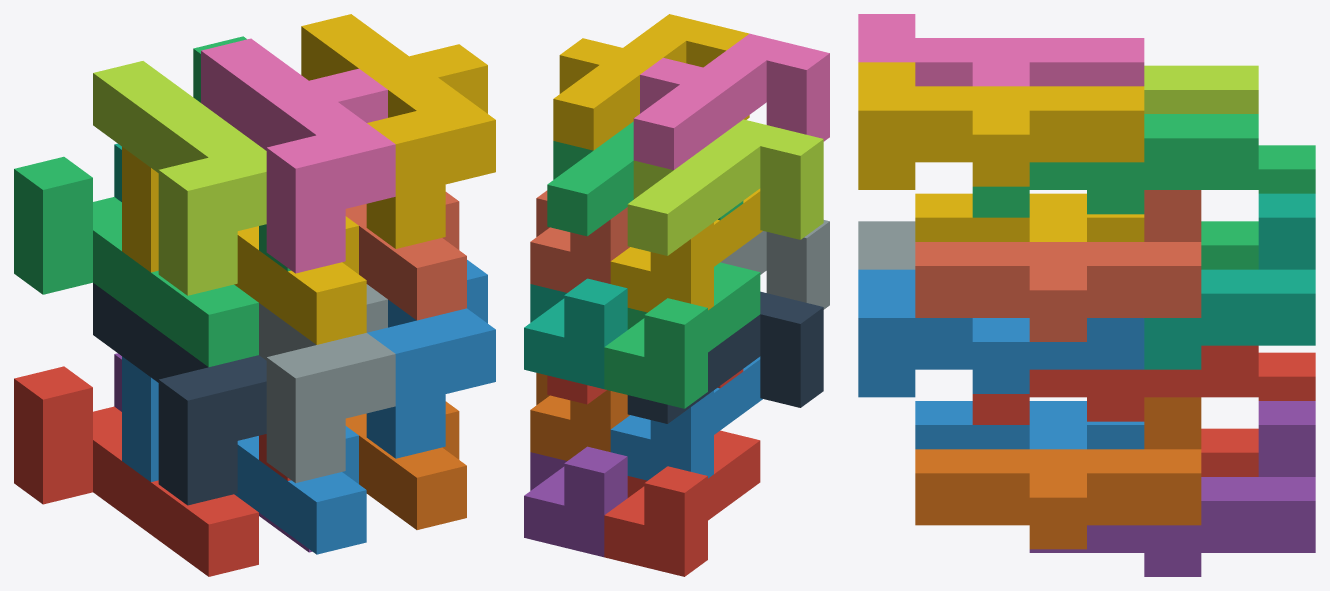
The model's file is tiling.obj.
The picture shows the model from 3 angles, left to right: view 1: azimuth 30°, elevation 25°; view 2: azimuth 150°, elevation 25°; view 3: azimuth 270°, elevation 25°; orthographic projection. The views are drawn at different scales.
Visible parts, largest first — view 1: copy_2_domain_4, copy_2_domain_3, copy_2_domain_8, copy_1_domain_3, copy_1_domain_1, copy_2_domain_1, copy_2_domain_2, copy_2_domain_6, copy_1_domain_4, copy_1_domain_2, copy_1_domain_6, copy_1_domain_8 (+2 smaller); view 2: copy_2_domain_3, copy_2_domain_4, copy_1_domain_1, copy_1_domain_3, copy_2_domain_8, copy_2_domain_1, copy_1_domain_7, copy_1_domain_5, copy_1_domain_4, copy_1_domain_2, copy_2_domain_7, copy_1_domain_8 (+3 smaller); view 3: copy_1_domain_6, copy_2_domain_8, copy_1_domain_8, copy_2_domain_6, copy_1_domain_5, copy_1_domain_7, copy_2_domain_7, copy_2_domain_4, copy_2_domain_5, copy_1_domain_2, copy_1_domain_4, copy_1_domain_3 (+3 smaller).
Part boxes in pixels (x1=…): copy_2_domain_4: x1=201, y1=38, x2=395, y2=273; copy_2_domain_3: x1=93, y1=61, x2=266, y2=295; copy_2_domain_8: x1=301, y1=14, x2=495, y2=248; copy_1_domain_3: x1=14, y1=156, x2=258, y2=366; copy_1_domain_1: x1=14, y1=366, x2=258, y2=576; copy_2_domain_1: x1=93, y1=283, x2=266, y2=505; copy_2_domain_2: x1=259, y1=284, x2=395, y2=483; copy_2_domain_6: x1=366, y1=260, x2=495, y2=458; copy_1_domain_4: x1=122, y1=147, x2=366, y2=344; copy_1_domain_2: x1=122, y1=356, x2=366, y2=554; copy_1_domain_6: x1=345, y1=401, x2=466, y2=529; copy_1_domain_8: x1=345, y1=192, x2=466, y2=320; copy_2_domain_3: x1=627, y1=119, x2=823, y2=255; copy_2_domain_4: x1=633, y1=33, x2=829, y2=170; copy_1_domain_1: x1=604, y1=430, x2=760, y2=576; copy_1_domain_3: x1=604, y1=262, x2=760, y2=408; copy_2_domain_8: x1=553, y1=14, x2=749, y2=150; copy_2_domain_1: x1=627, y1=291, x2=823, y2=423; copy_1_domain_7: x1=524, y1=278, x2=627, y2=388; copy_1_domain_5: x1=524, y1=446, x2=627, y2=557; copy_1_domain_4: x1=610, y1=188, x2=762, y2=312; copy_1_domain_2: x1=610, y1=356, x2=762, y2=480; copy_2_domain_7: x1=547, y1=121, x2=743, y2=236; copy_1_domain_8: x1=530, y1=190, x2=629, y2=292; copy_1_domain_6: x1=915, y1=397, x2=1201, y2=549; copy_2_domain_8: x1=858, y1=62, x2=1144, y2=189; copy_1_domain_8: x1=915, y1=190, x2=1201, y2=341; copy_2_domain_6: x1=858, y1=269, x2=1144, y2=397; copy_1_domain_5: x1=1029, y1=401, x2=1315, y2=576; copy_1_domain_7: x1=1144, y1=193, x2=1315, y2=369; copy_2_domain_7: x1=972, y1=114, x2=1258, y2=217; copy_2_domain_4: x1=858, y1=14, x2=1144, y2=86; copy_2_domain_5: x1=972, y1=345, x2=1258, y2=424; copy_1_domain_2: x1=915, y1=401, x2=1144, y2=449; copy_1_domain_4: x1=915, y1=193, x2=1144, y2=241; copy_1_domain_3: x1=1201, y1=145, x2=1315, y2=269.
Bounding box in the file's own units: 6 × 9 × 8.
